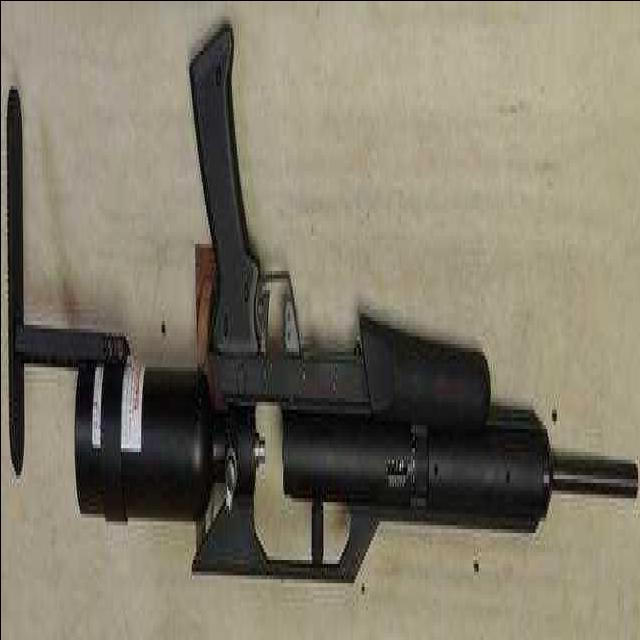heavyweapon: (1, 17, 551, 603)
